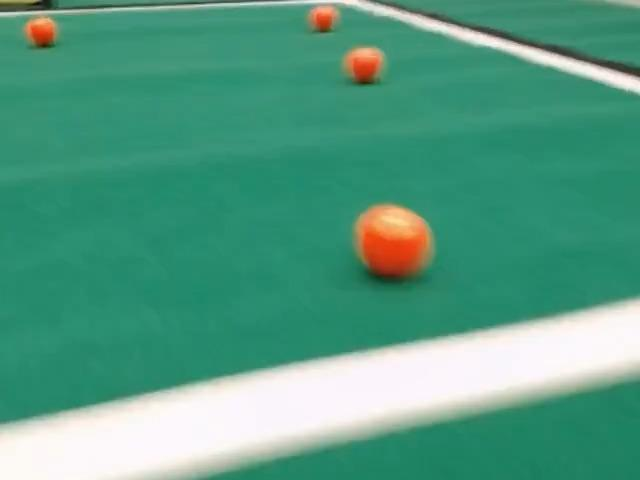Ball: (354, 204, 433, 278), (343, 47, 383, 83), (25, 16, 57, 47), (308, 5, 338, 32)
